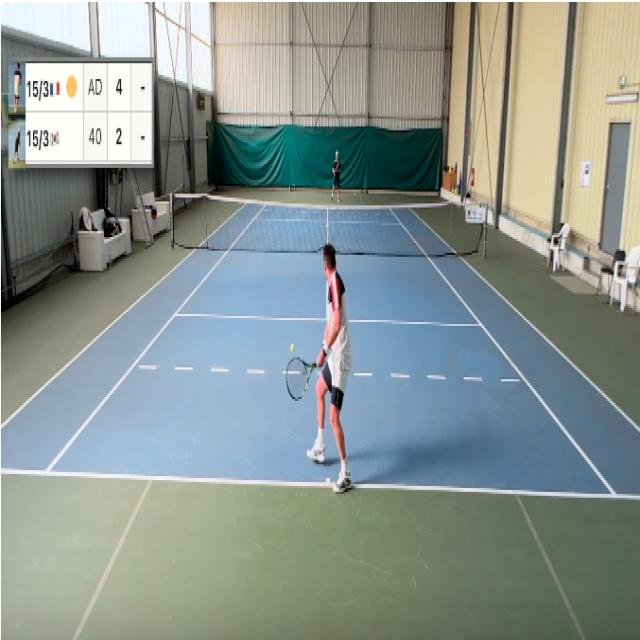ball: (289, 342, 295, 353), (353, 192, 356, 196)
